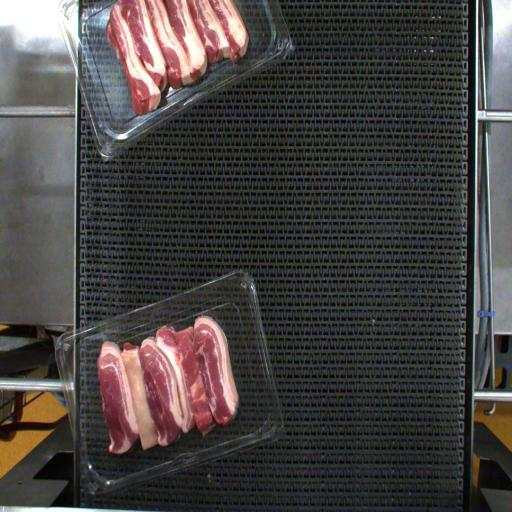twisted-meat: (123, 340, 156, 466), (183, 330, 215, 438)
